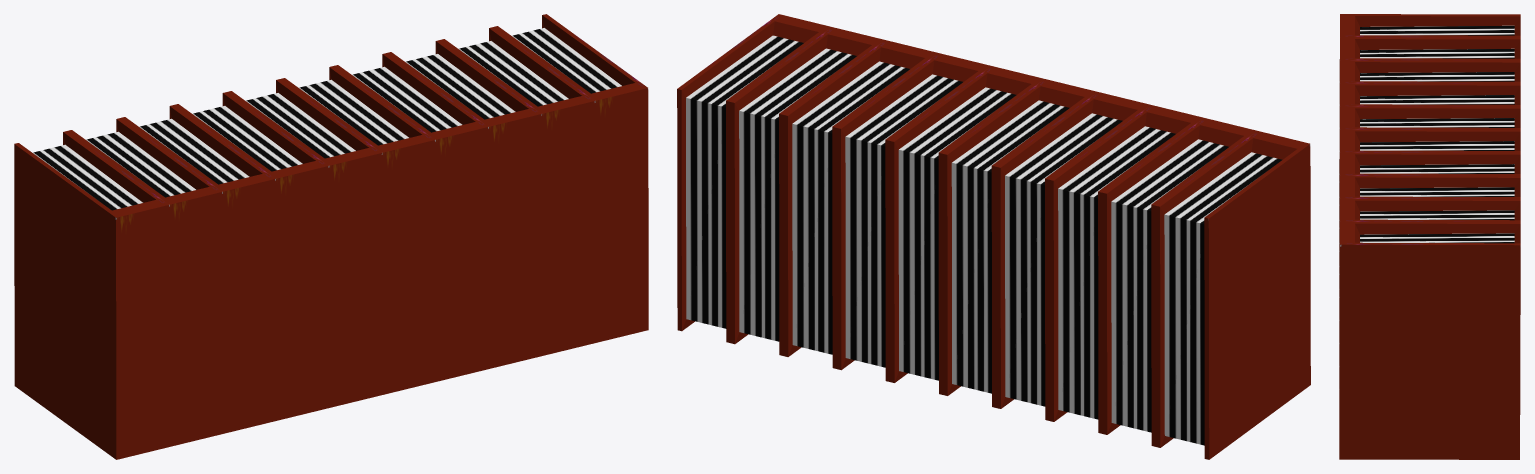
The model's file is Libros_pequenyo.obj.
3 renders of one model, left to right at view 1: azimuth 30°, elevation 25°; view 2: azimuth 150°, elevation 25°; view 3: azimuth 270°, elevation 25°, orthographic. The views are drawn at different scales.
Parts seen in each view (by area): view 1: Pequenyo.001; view 2: Pequenyo.001; view 3: Pequenyo.001.
Boxes of the visible parts, x1,y1,x2,y2 form: Pequenyo.001: (14, 14, 648, 459); Pequenyo.001: (677, 14, 1310, 459); Pequenyo.001: (1339, 14, 1520, 459).
Bounding box in the file's own units: 4.22 × 1.84 × 1.4.
Materials: 1 (1 with a texture image).
